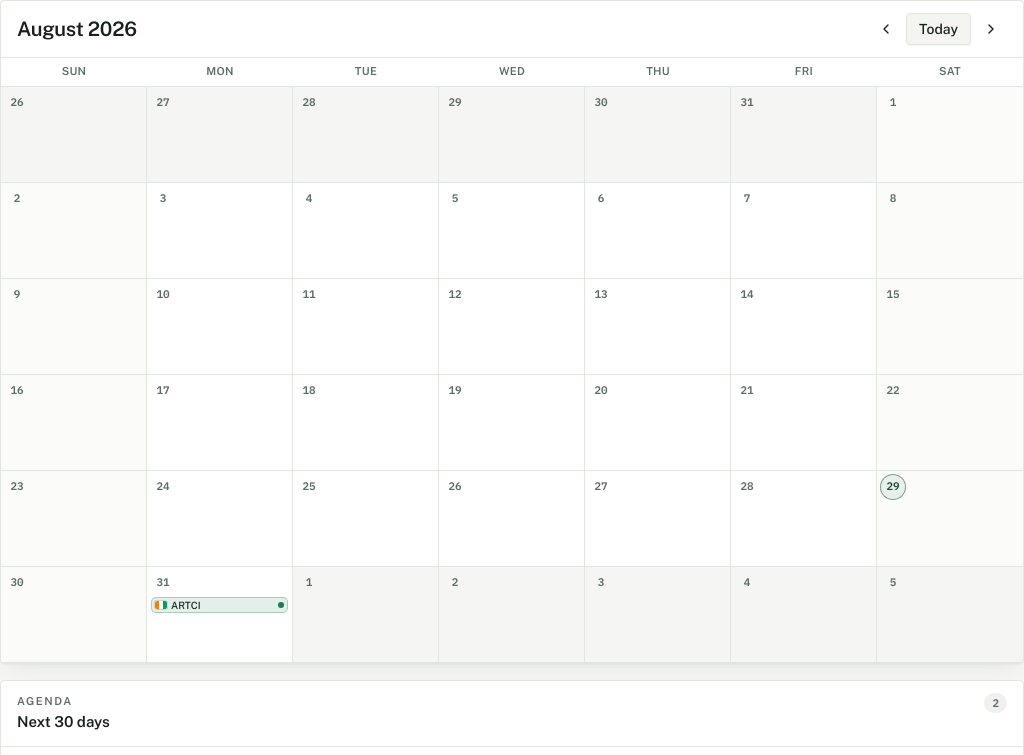
Scenario: MeetingsCalendar › moves between months and back to today
Click the button named "next month" at (991, 29), box [975,13,1007,45]
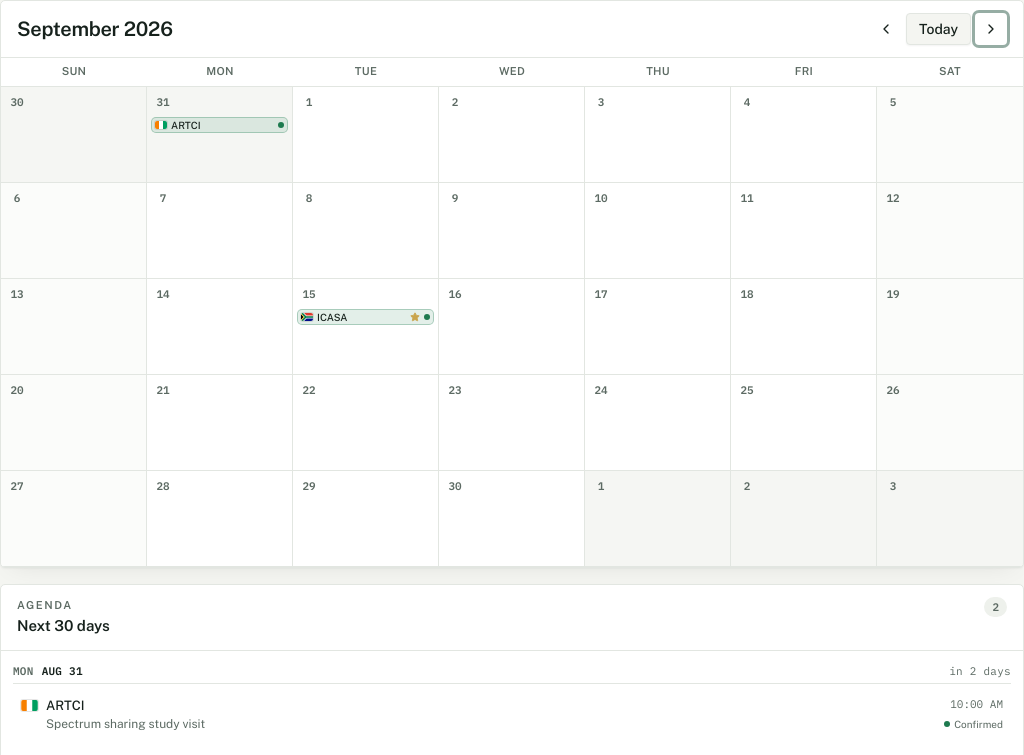
Expected: the heading "September 2026" is shown, [17,19,173,39]
Click the button named "previous month" at (886, 29), box [870,13,902,45]
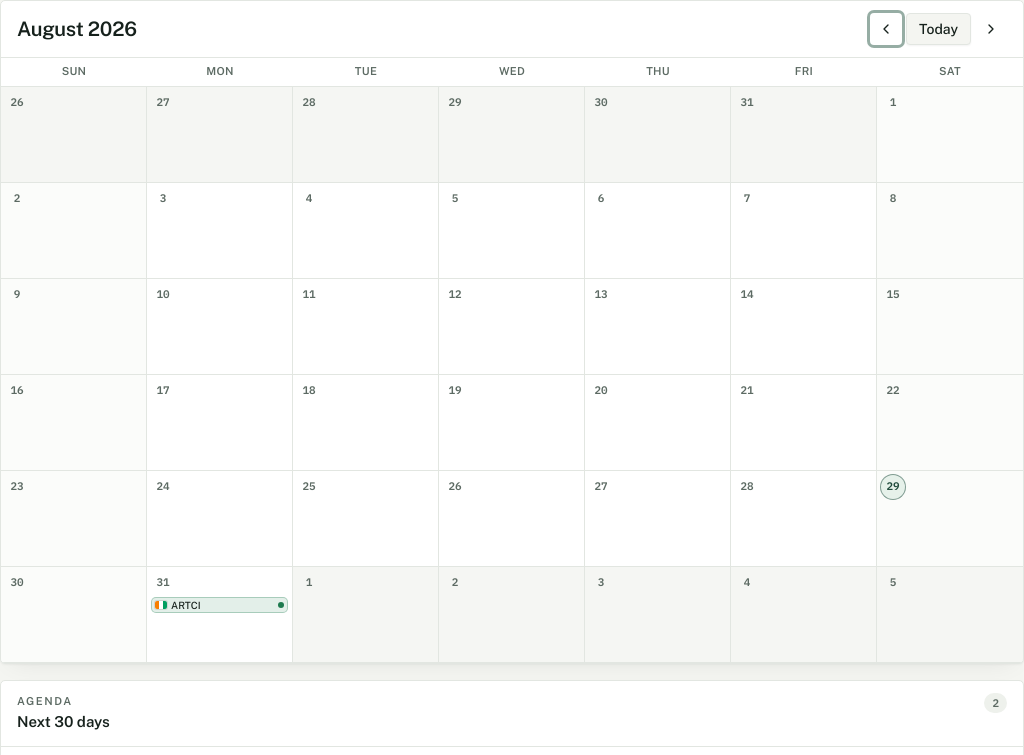
Click the button named "previous month" at (886, 29), box [870,13,902,45]
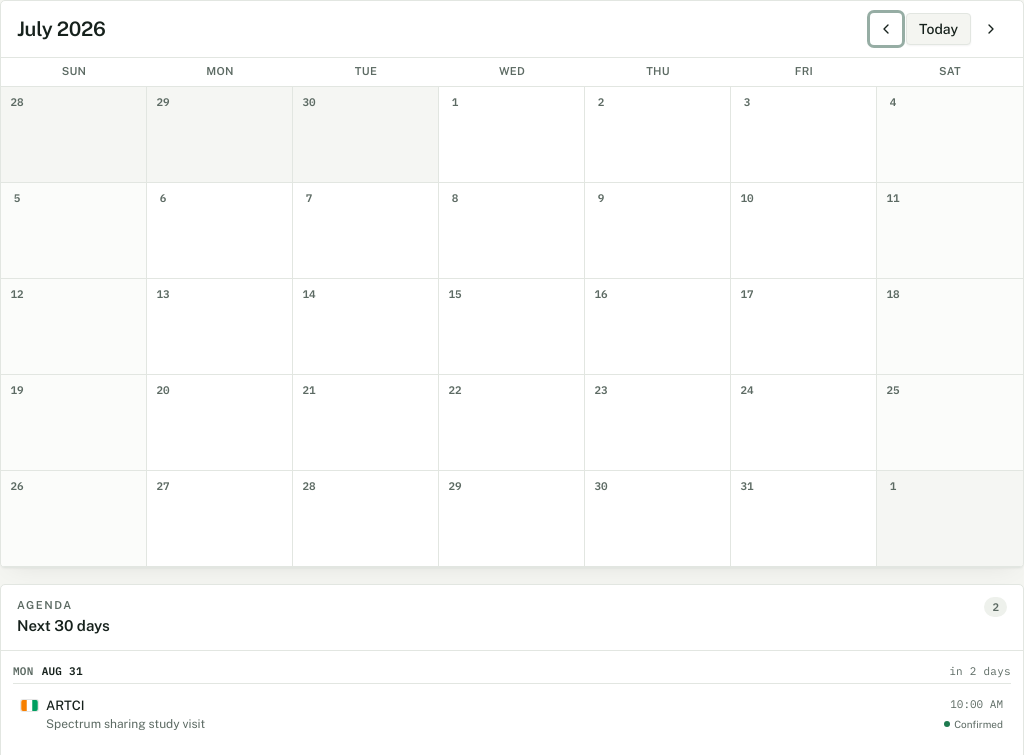
Expected: the heading "July 2026" is shown, [17,19,106,39]
Click the button "Today" at (939, 29), box [906,13,971,45]
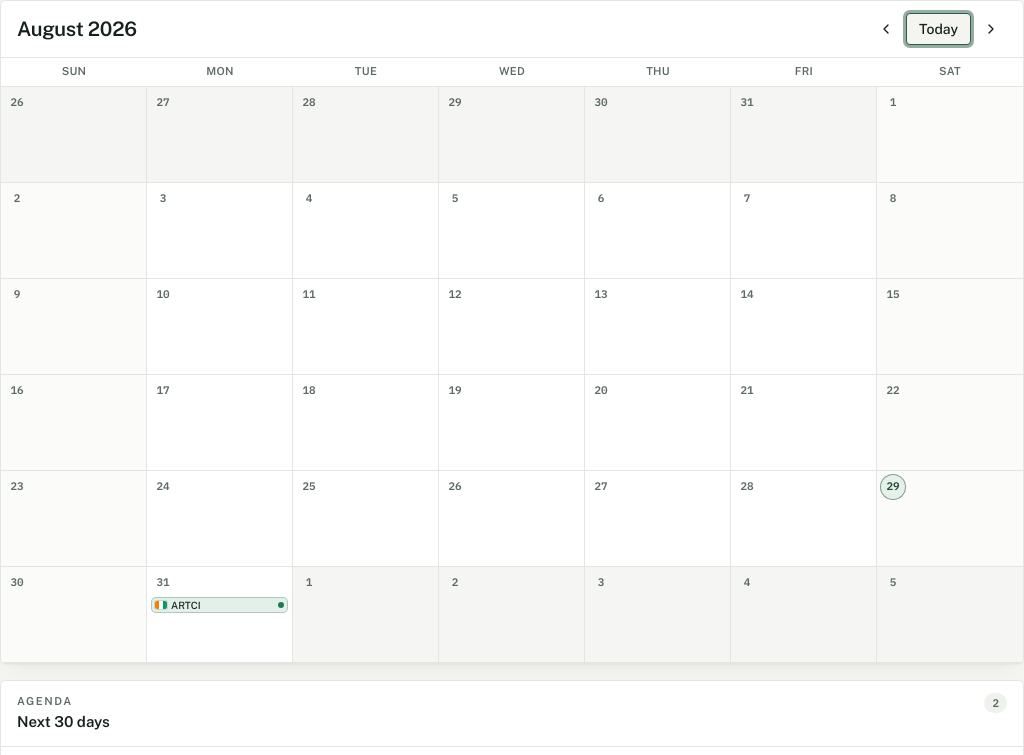
Expected: the heading "August 2026" is shown, [17,19,137,39]
